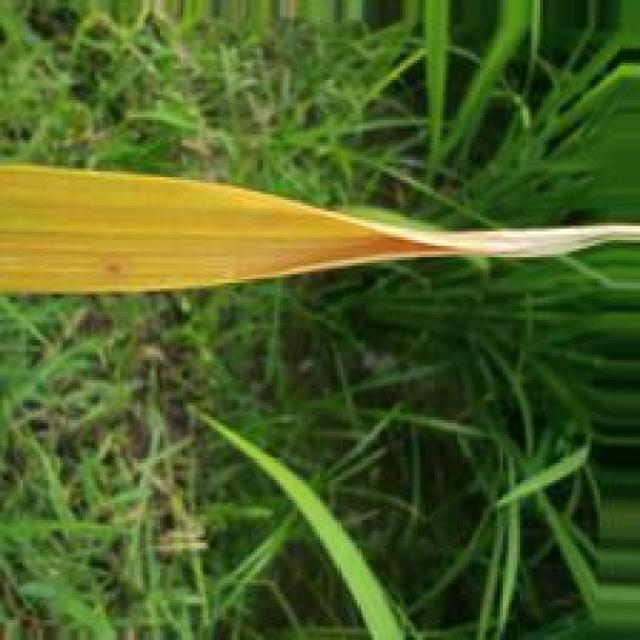Leaf_Scald: (267, 218, 560, 274)
